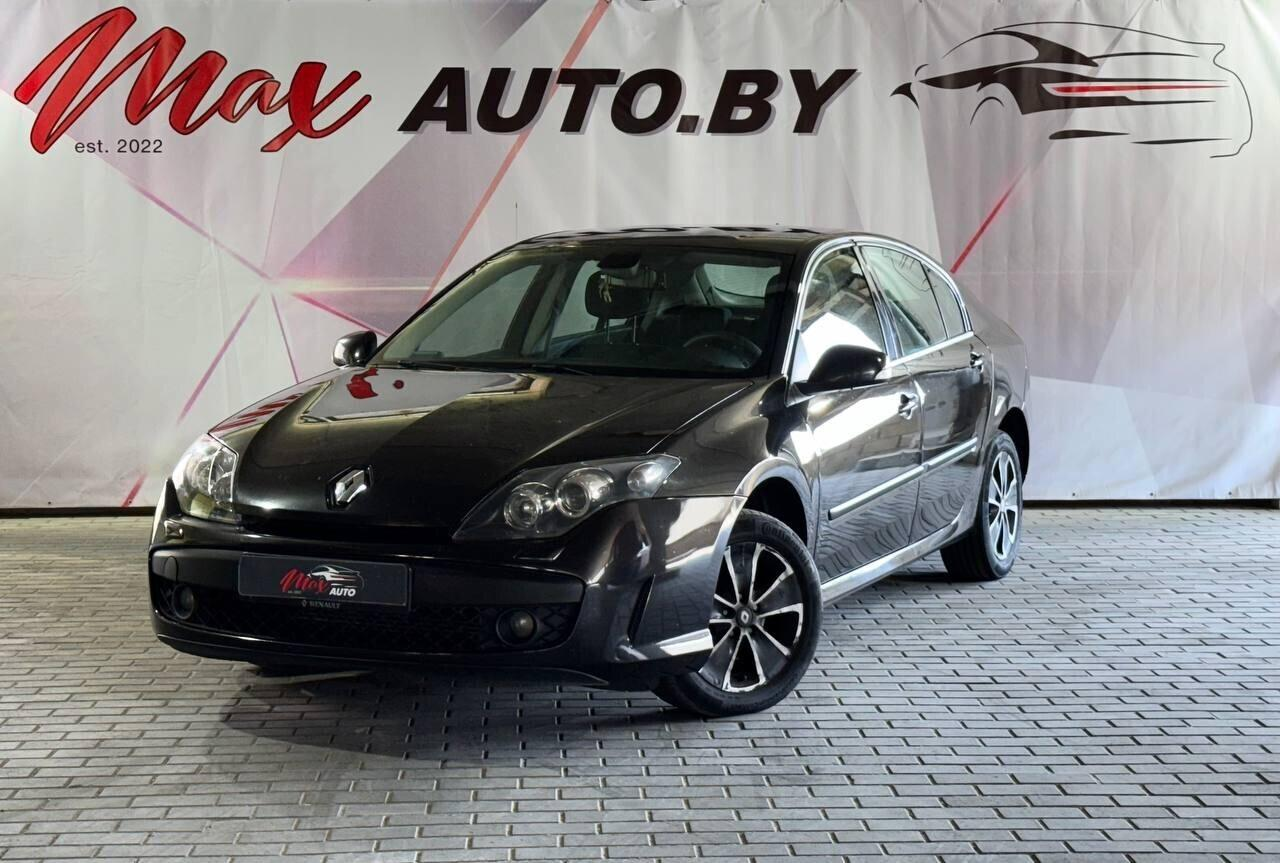Laguna_2007-2011: (144, 226, 1029, 715)
